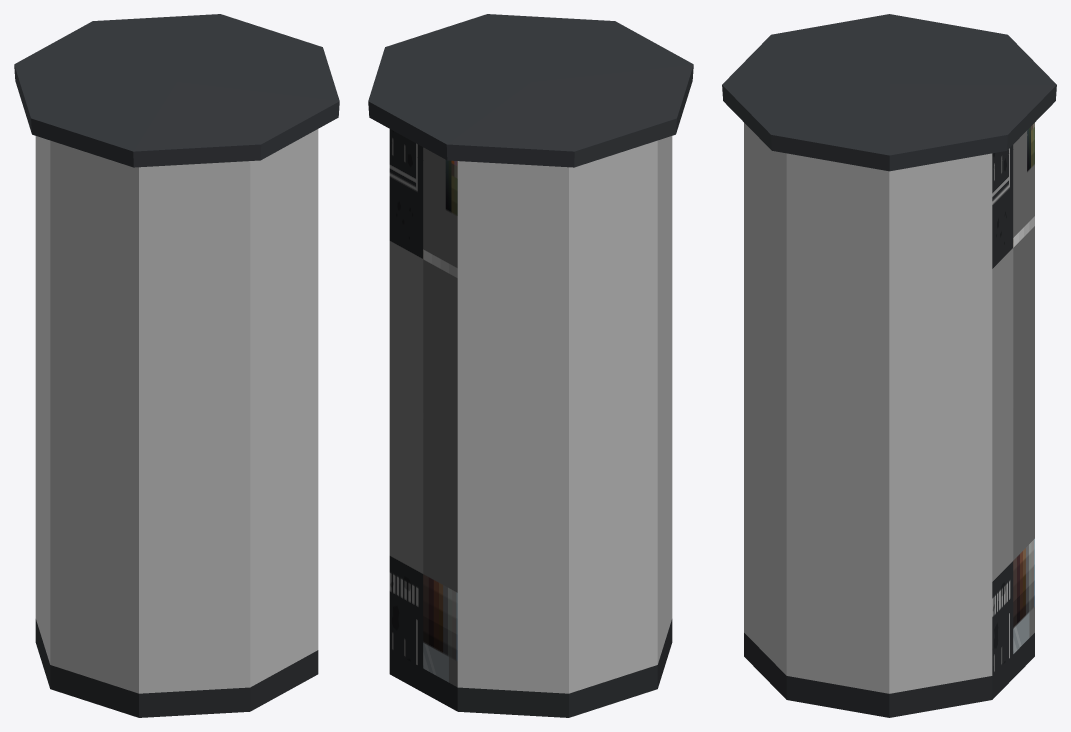
File: SM_Bld_Highrise_09.fbx
3 renders of one model, left to right at view 1: azimuth 30°, elevation 25°; view 2: azimuth 150°, elevation 25°; view 3: azimuth 270°, elevation 25°, orthographic.
Visible parts, largest first — view 1: SM_Bld_Highrise_09; view 2: SM_Bld_Highrise_09; view 3: SM_Bld_Highrise_09.
Part boxes in pixels (x1,y1,x2,y2): SM_Bld_Highrise_09: (14,14,339,717); SM_Bld_Highrise_09: (368,14,693,717); SM_Bld_Highrise_09: (722,14,1056,717).
Bounding box in the file's own units: 62.33 × 118 × 62.33.
